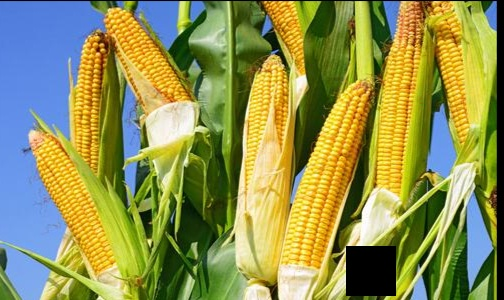corn: (22, 133, 135, 286), (105, 7, 200, 169), (282, 82, 361, 274), (239, 60, 288, 280), (376, 3, 425, 205), (435, 21, 492, 165), (73, 35, 114, 181)
